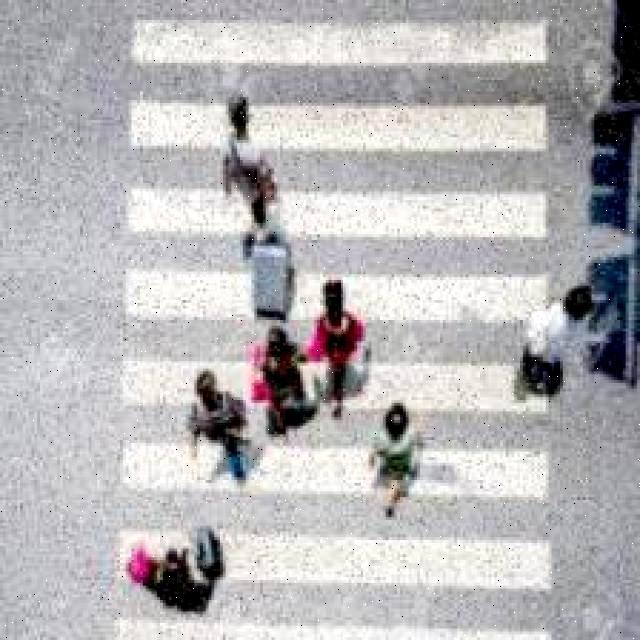crosswalk: (105, 0, 559, 640)
